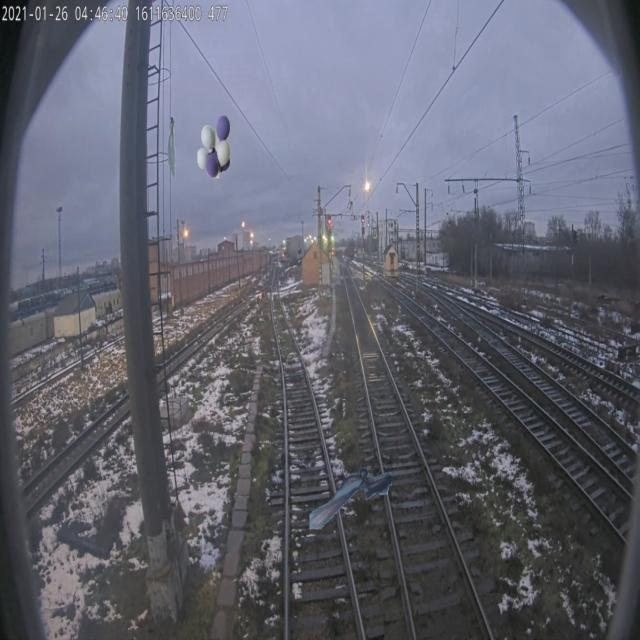balloon: (197, 114, 231, 178)
floating object: (309, 466, 392, 530), (168, 116, 182, 180)
